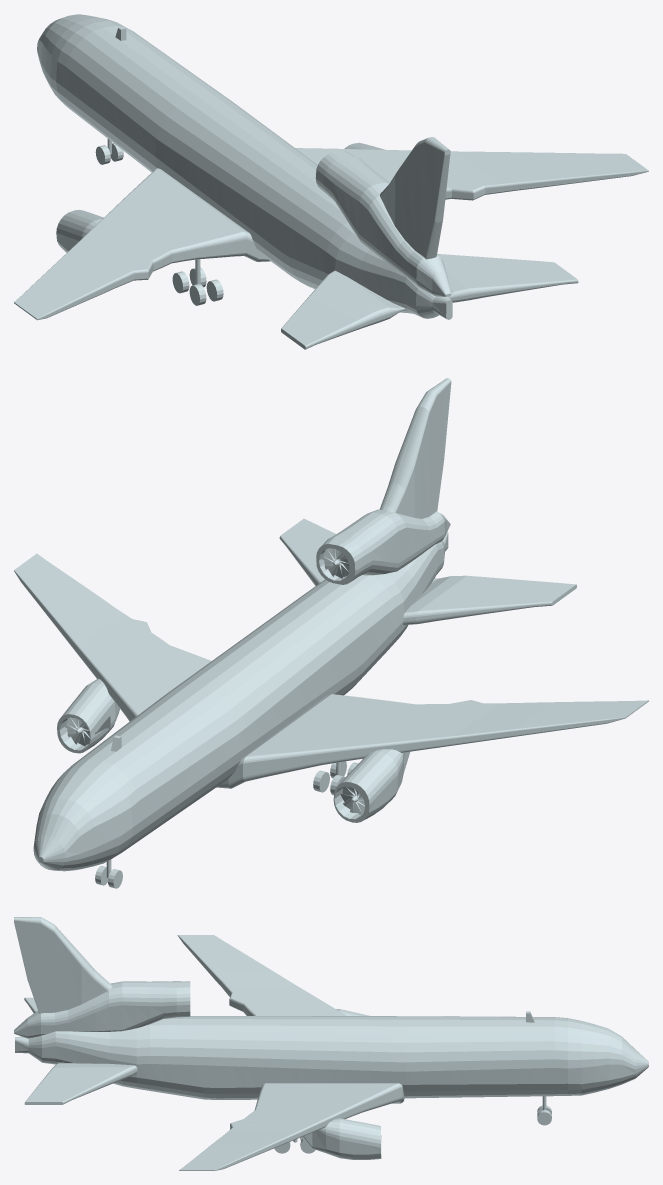
3 views of the same model, one above another, from view 1: azimuth 30°, elevation 25°; view 2: azimuth 150°, elevation 25°; view 3: azimuth 270°, elevation 25° (orthographic). The views are drawn at different scales.
Visible parts, largest first — view 1: Aircraft visual hull, Landing gear; view 2: Aircraft visual hull, Landing gear; view 3: Aircraft visual hull, Landing gear.
Part boxes in pixels (<box>): Aircraft visual hull: <box>14,14,648,349</box>; Landing gear: <box>95,139,223,305</box>; Aircraft visual hull: <box>14,378,648,871</box>; Landing gear: <box>95,761,358,888</box>; Aircraft visual hull: <box>14,917,648,1170</box>; Landing gear: <box>274,1096,551,1153</box>.
Size of the model in its own units: 47.61 by 19.39 by 54.63.
